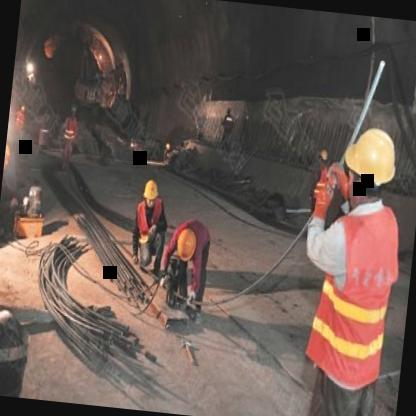helmet: (338, 122, 402, 209), (168, 221, 203, 267), (140, 176, 162, 209), (2, 136, 17, 178), (316, 147, 329, 166)
